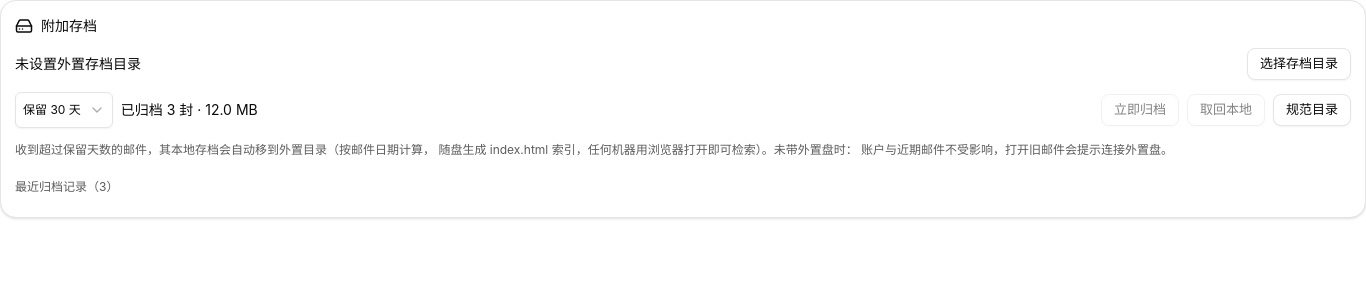
shows the archived total and the recent tier log under the tiering card
Expected: the text "项目对账邮件" is not shown
What coordinates should you click on to do the following:
click the button "最近归档记录（3）"
I would click on:
 (67, 187)
Its box is [7,171,126,203].
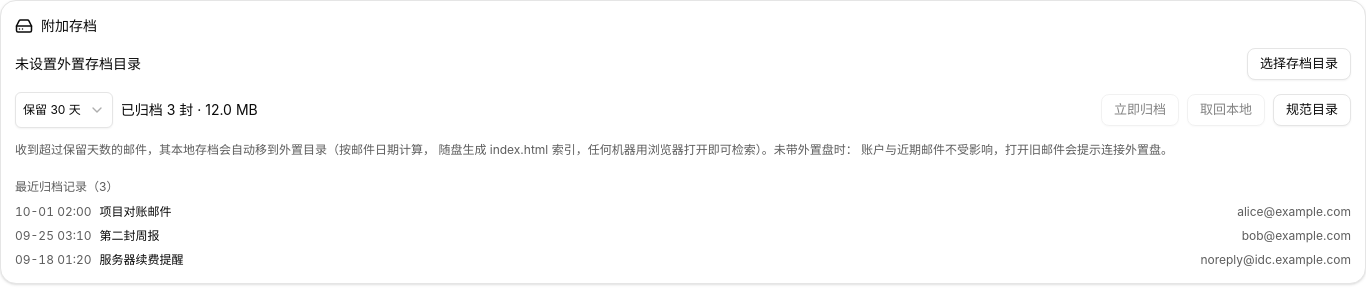
Expected: the text "项目对账邮件" is shown, [100,204,172,219]
Expected: the text "alice@example.com" is shown, [1237,203,1351,221]
